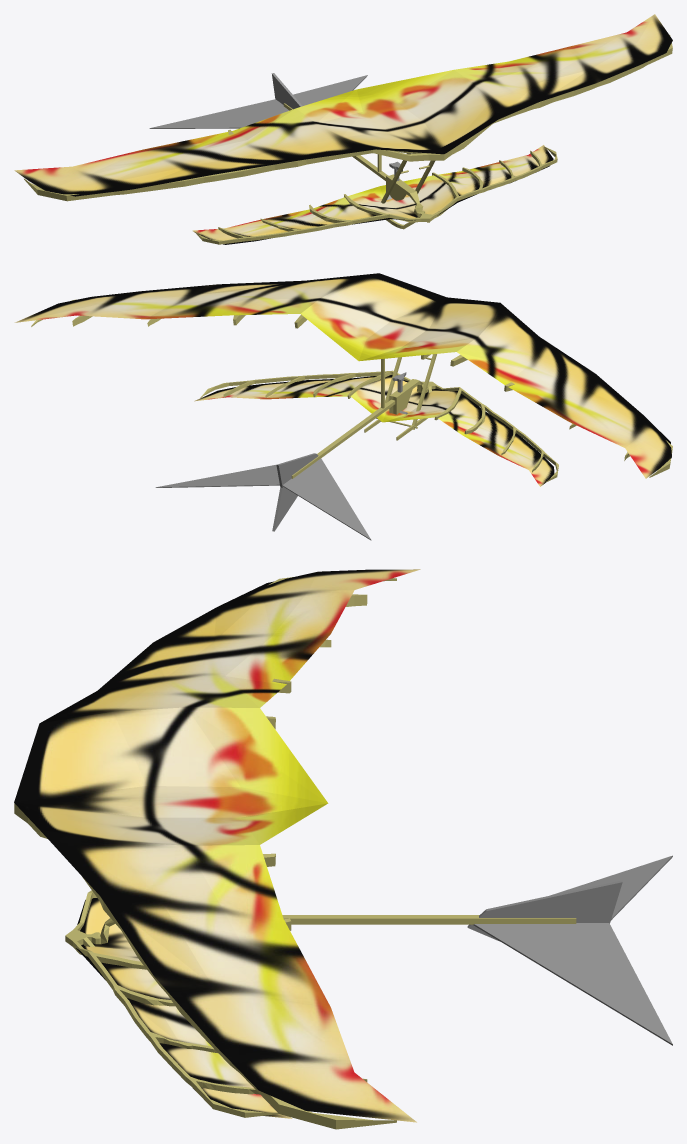
File: glider_mk3.fbx
The picture shows the model from 3 angles, top to bottom: view 1: azimuth 30°, elevation 25°; view 2: azimuth 150°, elevation 25°; view 3: azimuth 270°, elevation 25°; orthographic projection. The views are drawn at different scales.
Visible parts, largest first — view 1: TigerMk1; view 2: TigerMk1; view 3: TigerMk1.
Part boxes in pixels (x1=…): TigerMk1: x1=14, y1=14, x2=672, y2=244; TigerMk1: x1=14, y1=273, x2=672, y2=540; TigerMk1: x1=14, y1=569, x2=672, y2=1129.
Bounding box in the file's own units: 8.48 × 1.55 × 4.25.
4 materials, 1 textured.
